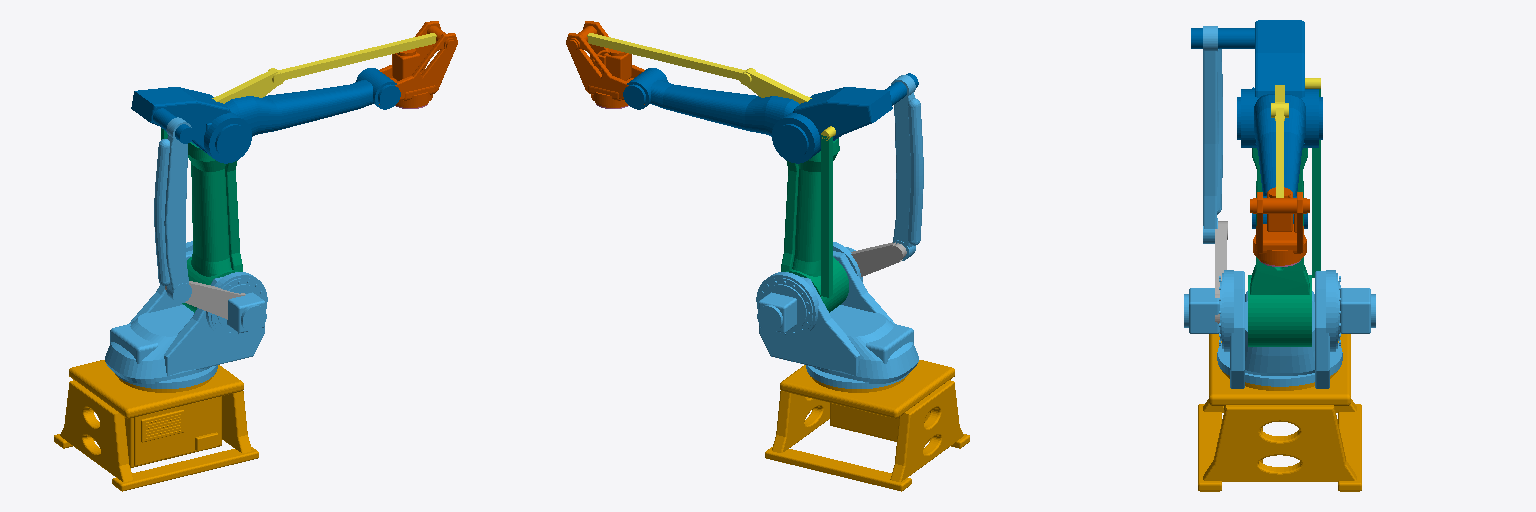
URDF robot description (fanuc_m410ic_185_reference):
<?xml version="1.0"?>
<robot name="fanuc_m410ic_185_reference">
<link name="base_link"><visual ><geometry ><mesh filename="../meshes/base_link.obj"/></geometry></visual><collision ><origin xyz="-0.07 -0.4025 0.0275" rpy="0 0 0"/><geometry ><box size="1.094 0.1402 0.055"/></geometry></collision><collision ><origin xyz="-0.07 0.4025 0.0275" rpy="0 0 0"/><geometry ><box size="1.094 0.1402 0.055"/></geometry></collision><collision ><origin xyz="0.39745 0 0.28195" rpy="0 0 0"/><geometry ><box size="0.0851 0.8898 0.4703"/></geometry></collision><collision ><origin xyz="-0.5425 0 0.28195" rpy="0 0 0"/><geometry ><box size="0.085 0.8898 0.4703"/></geometry></collision><collision ><origin xyz="-0.07 0 0.5375" rpy="0 0 0"/><geometry ><box size="0.94 0.82 0.0752"/></geometry></collision><collision ><origin xyz="-0.07 -0.21495 0.27" rpy="0 0 0"/><geometry ><box size="0.7302 0.2301 0.4252"/></geometry></collision><collision ><origin xyz="0 0 0.59155" rpy="0 0 0"/><geometry ><cylinder radius="0.3551" length="0.0471"/></geometry></collision></link>
<link name="J1_link"><visual ><geometry ><mesh filename="../meshes/J1_link.obj"/></geometry></visual><collision ><origin xyz="0 0 0.025" rpy="0 0 0"/><geometry ><cylinder radius="0.3601" length="0.0502"/></geometry></collision><collision ><origin xyz="-0.2783 0.00005 0.185" rpy="0 0 0"/><geometry ><box size="0.2634 0.5737 0.2902"/></geometry></collision><collision ><origin xyz="-0.015 0 0.185" rpy="0 0 0"/><geometry ><box size="0.2634 0.58 0.2902"/></geometry></collision><collision ><origin xyz="0.2483 0 0.185" rpy="0 0 0"/><geometry ><box size="0.2634 0.5682 0.2902"/></geometry></collision><collision ><origin xyz="-0.24 0 0.17005" rpy="0 0 0"/><geometry ><box size="0.1802 0.4002 0.2501"/></geometry></collision><collision ><origin xyz="-0.05395 -0.24495 0.2325" rpy="0 0 0"/><geometry ><box size="0.1961 0.0851 0.329"/></geometry></collision><collision ><origin xyz="0.14205 -0.24495 0.3627" rpy="0 0 0"/><geometry ><box size="0.1961 0.0851 0.5894"/></geometry></collision><collision ><origin xyz="0.33805 -0.24495 0.38" rpy="0 0 0"/><geometry ><box size="0.1961 0.0851 0.624"/></geometry></collision><collision ><origin xyz="0.5341 -0.24495 0.38" rpy="0 0 0"/><geometry ><box size="0.1962 0.0851 0.624"/></geometry></collision><collision ><origin xyz="0.39 -0.306 0.495" rpy="1.57079632679 0 0"/><geometry ><cylinder radius="0.2351" length="0.084"/></geometry></collision><collision ><origin xyz="0.39 -0.44875 0.495" rpy="1.57079632679 0 0"/><geometry ><cylinder radius="0.142" length="0.2077"/></geometry></collision><collision ><origin xyz="-0.05395 0.24505 0.2325" rpy="0 0 0"/><geometry ><box size="0.1961 0.0851 0.329"/></geometry></collision><collision ><origin xyz="0.14205 0.24505 0.3627" rpy="0 0 0"/><geometry ><box size="0.1961 0.0851 0.5894"/></geometry></collision><collision ><origin xyz="0.33805 0.24505 0.38" rpy="0 0 0"/><geometry ><box size="0.1961 0.0851 0.624"/></geometry></collision><collision ><origin xyz="0.5341 0.24505 0.38" rpy="0 0 0"/><geometry ><box size="0.1962 0.0851 0.624"/></geometry></collision><collision ><origin xyz="0.39 0.306 0.495" rpy="1.57079632679 0 0"/><geometry ><cylinder radius="0.2351" length="0.084"/></geometry></collision><collision ><origin xyz="0.39 0.44875 0.495" rpy="1.57079632679 0 0"/><geometry ><cylinder radius="0.142" length="0.2077"/></geometry></collision></link>
<link name="J2_link"><visual ><geometry ><mesh filename="../meshes/J2_link.obj"/></geometry></visual><collision ><origin xyz="0 0 0" rpy="1.57079632679 0 0"/><geometry ><cylinder radius="0.2081" length="0.3702"/></geometry></collision><collision ><origin xyz="-0.02355 0 0.205" rpy="0 0 0"/><geometry ><box size="0.2231 0.3422 0.21"/></geometry></collision><collision ><origin xyz="-0.02715 0 0.41495" rpy="0 0 0"/><geometry ><box size="0.2119 0.277 0.2101"/></geometry></collision><collision ><origin xyz="-0.03455 0 0.62495" rpy="0 0 0"/><geometry ><box size="0.2095 0.269 0.2101"/></geometry></collision><collision ><origin xyz="-0.042 0 0.83495" rpy="0 0 0"/><geometry ><box size="0.207 0.2608 0.2101"/></geometry></collision><collision ><origin xyz="-0.05005 0 1.04495" rpy="0 0 0"/><geometry ><box size="0.2881 0.308 0.2101"/></geometry></collision><collision ><origin xyz="0.08735 0 0.29115" rpy="0 0 0"/><geometry ><box size="0.0853 0.3592 0.3393"/></geometry></collision><collision ><origin xyz="0.074 0 0.6303" rpy="0 0 0"/><geometry ><box size="0.0916 0.2788 0.3392"/></geometry></collision><collision ><origin xyz="0.0616 0 0.96945" rpy="0 0 0"/><geometry ><box size="0.0834 0.3242 0.3393"/></geometry></collision><collision ><origin xyz="0 0 1.22" rpy="1.57079632679 0 0"/><geometry ><cylinder radius="0.1571" length="0.3952"/></geometry></collision></link>
<link name="elbow_link"><visual ><geometry ><mesh filename="../meshes/elbow_link.obj"/></geometry></visual><collision ><origin xyz="-0.17815 0 0.0779" rpy="0 0 0"/><geometry ><box size="0.2039 0.06 0.2396"/></geometry></collision><collision ><origin xyz="0.02565 0 0.0927" rpy="0 0 0"/><geometry ><box size="0.2039 0.06 0.3054"/></geometry></collision><collision ><origin xyz="0.2294 0 0.16155" rpy="0 0 0"/><geometry ><box size="0.2038 0.06 0.2631"/></geometry></collision><collision ><origin xyz="0.43315 0 0.23425" rpy="0 0 0"/><geometry ><box size="0.2039 0.06 0.1895"/></geometry></collision><collision ><origin xyz="-0.26 0.105 0.1" rpy="0 0 0"/><geometry ><box size="0.0702 0.26 0.0702"/></geometry></collision><collision ><origin xyz="0.485 0 0.279" rpy="0 0 0"/><geometry ><box size="0.0902 0.1002 0.0902"/></geometry></collision></link>
<link name="J3_link"><visual ><geometry ><mesh filename="../meshes/J3_link.obj"/></geometry></visual><collision ><origin xyz="0 0 0" rpy="1.57079632679 0 0"/><geometry ><cylinder radius="0.1701" length="0.4992"/></geometry></collision><collision ><origin xyz="0.1605 0 0.04" rpy="0 0 0"/><geometry ><box size="0.2412 0.3142 0.3362"/></geometry></collision><collision ><origin xyz="0.40155 0 0.04755" rpy="0 0 0"/><geometry ><box size="0.2411 0.2858 0.2931"/></geometry></collision><collision ><origin xyz="0.64255 0 0.0078" rpy="0 0 0"/><geometry ><box size="0.2411 0.2436 0.2132"/></geometry></collision><collision ><origin xyz="0.88355 0 -0.00455" rpy="0 0 0"/><geometry ><box size="0.2411 0.219 0.1873"/></geometry></collision><collision ><origin xyz="1.12455 0 -0.01285" rpy="0 0 0"/><geometry ><box size="0.2411 0.2022 0.1679"/></geometry></collision><collision ><origin xyz="-0.45905 0.00005 0.2216" rpy="0 0 0"/><geometry ><box size="0.2475 0.2901 0.2828"/></geometry></collision><collision ><origin xyz="-0.2117 0.00005 0.10275" rpy="0 0 0"/><geometry ><box size="0.2474 0.2901 0.4589"/></geometry></collision><collision ><origin xyz="0.03565 0.00005 0.0666" rpy="0 0 0"/><geometry ><box size="0.2475 0.2901 0.3806"/></geometry></collision><collision ><origin xyz="1.3 0 0" rpy="1.57079632679 0 0"/><geometry ><cylinder radius="0.1031" length="0.3212"/></geometry></collision><collision ><origin xyz="-0.51 -0.25 0.27" rpy="0 0 0"/><geometry ><box size="0.12 0.52 0.12"/></geometry></collision><collision ><origin xyz="-0.04 -0.153 0.066" rpy="0 0 0"/><geometry ><box size="0.22 0.018 0.13"/></geometry></collision></link>
<link name="wrist_link"><visual ><geometry ><mesh filename="../meshes/wrist_link.obj"/></geometry></visual><collision ><origin xyz="0.0308 -0.115 0.01185" rpy="0 0 0"/><geometry ><box size="0.2116 0.038 0.1411"/></geometry></collision><collision ><origin xyz="0.2423 -0.115 0.0911" rpy="0 0 0"/><geometry ><box size="0.2116 0.038 0.3052"/></geometry></collision><collision ><origin xyz="0.45385 -0.115 0.14315" rpy="0 0 0"/><geometry ><box size="0.2117 0.038 0.4105"/></geometry></collision><collision ><origin xyz="0.0308 0.115 0.01185" rpy="0 0 0"/><geometry ><box size="0.2116 0.038 0.1411"/></geometry></collision><collision ><origin xyz="0.2423 0.115 0.0911" rpy="0 0 0"/><geometry ><box size="0.2116 0.038 0.3052"/></geometry></collision><collision ><origin xyz="0.45385 0.115 0.14315" rpy="0 0 0"/><geometry ><box size="0.2117 0.038 0.4105"/></geometry></collision><collision ><origin xyz="0.485 0 0.279" rpy="0 0 0"/><geometry ><box size="0.0902 0.342 0.0902"/></geometry></collision><collision ><origin xyz="0.255 0 -0.037" rpy="0 0 0"/><geometry ><box size="0.2702 0.2752 0.0852"/></geometry></collision><collision ><origin xyz="0.255 0 -0.09495" rpy="0 0 0"/><geometry ><cylinder radius="0.1531" length="0.1031"/></geometry></collision><collision ><origin xyz="0.2462 0.03055 0.1321" rpy="0 0 0"/><geometry ><box size="0.1944 0.2113 0.2292"/></geometry></collision><collision ><origin xyz="0.323 0.1045 0.137" rpy="0 0 0"/><geometry ><box size="0.12 0.043 0.16"/></geometry></collision></link>
<link name="J4_link"><visual ><geometry ><mesh filename="../meshes/J4_link.obj"/></geometry></visual><collision ><origin xyz="0 0 0.012" rpy="0 0 0"/><geometry ><cylinder radius="0.1251" length="0.0242"/></geometry></collision></link>
<link name="crank_link"><visual ><geometry ><mesh filename="../meshes/crank_link.obj"/></geometry></visual><collision ><origin xyz="0 0 0" rpy="1.57079632679 0 0"/><geometry ><cylinder radius="0.1101" length="0.0702"/></geometry></collision><collision ><origin xyz="-0.25497 0 0.13499" rpy="0 -2.65469342178 0"/><geometry ><box size="0.5772 0.0702 0.2002"/></geometry></collision><collision ><origin xyz="-0.51 -0.03 0.27" rpy="0 0 0"/><geometry ><box size="0.11 0.1402 0.11"/></geometry></collision></link>
<link name="rod_pivot_link"></link>
<link name="rod_link"><visual ><geometry ><mesh filename="../meshes/rod_link.obj"/></geometry></visual><collision ><origin xyz="0 0 0" rpy="1.57079632679 0 0"/><geometry ><cylinder radius="0.0751" length="0.0902"/></geometry></collision><collision ><origin xyz="0 0 1.22" rpy="1.57079632679 0 0"/><geometry ><cylinder radius="0.0751" length="0.0902"/></geometry></collision><collision ><origin xyz="-0.0297 0 0.61995" rpy="0 0 0"/><geometry ><box size="0.1928 0.08 1.2221"/></geometry></collision><collision ><origin xyz="-0.11495 0.02495 0.61" rpy="0 0 0"/><geometry ><box size="0.1201 0.1001 1.1102"/></geometry></collision></link>
<link name="level_lower_link"><visual ><geometry ><mesh filename="../meshes/level_lower_link.obj"/></geometry></visual><collision ><origin xyz="0 0 0.61005" rpy="0 0 0"/><geometry ><box size="0.06 0.0502 1.2201"/></geometry></collision></link>
<link name="level_upper_link"><visual ><geometry ><mesh filename="../meshes/level_upper_link.obj"/></geometry></visual><collision ><origin xyz="0.65 0 0" rpy="0 0 0"/><geometry ><box size="1.3 0.0502 0.06"/></geometry></collision></link>
<link name="flange"></link>
<link name="tool0"></link>
<joint name="J1" type="revolute"><parent link="base_link"/><child link="J1_link"/><origin xyz="0 0 0.615" rpy="0 0 0"/><axis xyz="0 0 1"/><limit lower="-3.141592653589793" upper="3.141592653589793" velocity="2.443460952792061"/></joint>
<joint name="J2" type="revolute"><parent link="J1_link"/><child link="J2_link"/><origin xyz="0.39 0 0.495" rpy="0 0 0"/><axis xyz="0 1 0"/><limit lower="-0.767944870877505" upper="1.7453292519943295" velocity="2.443460952792061"/></joint>
<joint name="J2_level" type="continuous"><parent link="J2_link"/><child link="elbow_link"/><origin xyz="0 0 1.22" rpy="0 0 0"/><axis xyz="0 1 0"/><limit velocity="10"/><mimic joint="J2" multiplier="-1" offset="0"/></joint>
<joint name="J3" type="revolute"><parent link="elbow_link"/><child link="J3_link"/><origin xyz="0 0 0" rpy="0 0 0"/><axis xyz="0 -1 0"/><limit lower="-2.199114857512855" upper="0.17453292519943295" velocity="2.443460952792061"/></joint>
<joint name="J3_level" type="continuous"><parent link="J3_link"/><child link="wrist_link"/><origin xyz="1.3 0 0" rpy="0 0 0"/><axis xyz="0 -1 0"/><limit velocity="10"/><mimic joint="J3" multiplier="-1" offset="0"/></joint>
<joint name="J4" type="revolute"><parent link="wrist_link"/><child link="J4_link"/><origin xyz="0.255 0 -0.159" rpy="0 0 0"/><axis xyz="0 0 -1"/><limit lower="-6.283185307179586" upper="6.283185307179586" velocity="5.323254218582705"/></joint>
<joint name="J4_flange" type="fixed"><parent link="J4_link"/><child link="flange"/><origin xyz="0 0 0" rpy="3.14159265359 0 0"/></joint>
<joint name="flange_tool0" type="fixed"><parent link="flange"/><child link="tool0"/><origin xyz="0 0 0" rpy="0 0 0"/></joint>
<joint name="J3_crank" type="continuous"><parent link="J1_link"/><child link="crank_link"/><origin xyz="0.39 -0.34 0.495" rpy="0 0 0"/><axis xyz="0 -1 0"/><limit velocity="10"/><mimic joint="J3" multiplier="1" offset="0"/></joint>
<joint name="J3_rod_unturn" type="continuous"><parent link="crank_link"/><child link="rod_pivot_link"/><origin xyz="-0.51 -0.06 0.27" rpy="0 0 0"/><axis xyz="0 -1 0"/><limit velocity="10"/><mimic joint="J3" multiplier="-1" offset="0"/></joint>
<joint name="J3_rod" type="continuous"><parent link="rod_pivot_link"/><child link="rod_link"/><origin xyz="0 0 0" rpy="0 0 0"/><axis xyz="0 1 0"/><limit velocity="10"/><mimic joint="J2" multiplier="1" offset="0"/></joint>
<joint name="level_lower" type="continuous"><parent link="J1_link"/><child link="level_lower_link"/><origin xyz="0.13 0.21 0.595" rpy="0 0 0"/><axis xyz="0 1 0"/><limit velocity="10"/><mimic joint="J2" multiplier="1" offset="0"/></joint>
<joint name="level_upper" type="continuous"><parent link="elbow_link"/><child link="level_upper_link"/><origin xyz="0.485 0 0.279" rpy="0 0 0"/><axis xyz="0 -1 0"/><limit velocity="10"/><mimic joint="J3" multiplier="1" offset="0"/></joint>
</robot>

--- Render facts (derived) ---
3 views of the same robot in one strip: view 1: azimuth 30°, elevation 25°; view 2: azimuth 150°, elevation 25°; view 3: azimuth 270°, elevation 25° (orthographic).
Model fanuc_m410ic_185_reference with 14 links and 13 joints (4 revolute, 7 continuous, 2 fixed), rooted at base_link, posed all joints at 0.
Links seen in each view (by area): view 1: base_link, J1_link, J3_link, J2_link, rod_link, wrist_link, level_upper_link, crank_link, elbow_link; view 2: base_link, J1_link, J3_link, J2_link, rod_link, wrist_link, level_lower_link, level_upper_link, elbow_link, crank_link; view 3: base_link, J1_link, J3_link, J2_link, rod_link, wrist_link, level_lower_link, crank_link, level_upper_link, elbow_link.
Link boxes in pixels (x1,y1,x2,y2): base_link: (54,360,258,491); J1_link: (105,241,267,388); J3_link: (131,68,400,163); J2_link: (182,142,242,312); rod_link: (154,117,191,303); wrist_link: (379,21,457,107); level_upper_link: (278,33,436,79); crank_link: (165,281,245,319); elbow_link: (212,68,284,103); base_link: (765,360,969,491); J1_link: (756,242,918,388); J3_link: (623,68,918,163); J2_link: (781,138,848,312); rod_link: (891,75,923,260); wrist_link: (566,21,644,107); level_lower_link: (821,135,832,297); level_upper_link: (587,33,745,79); elbow_link: (739,68,835,140); crank_link: (851,242,906,276); base_link: (1198,334,1361,491); J1_link: (1184,270,1375,388); J3_link: (1191,20,1322,228); J2_link: (1248,148,1311,346); rod_link: (1203,26,1222,243); wrist_link: (1250,187,1309,265); level_lower_link: (1312,89,1320,277); crank_link: (1215,221,1227,323); level_upper_link: (1276,108,1283,197); elbow_link: (1271,78,1320,120).
Size in the robot's own frame: 2.87 by 1.1 by 2.69 metres.
Meshes: 11 distinct files referenced, 11 mesh visuals loaded (11 OBJ).
